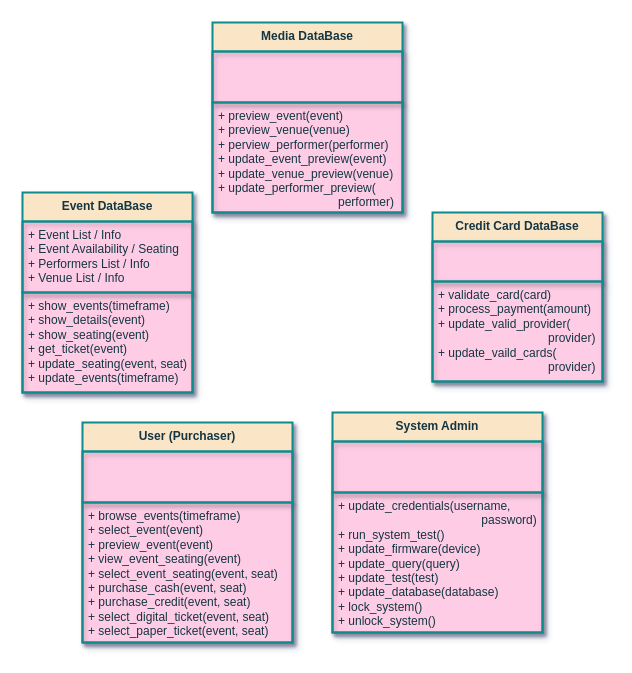
Some shapes in this 632 by 673 pixel diagram are drawn without their labels. The centre of each missing label's shape, as x and y in pixels:
+ Cash Balance + Credit Balance + Bluetooth Capability: point 188,478
+ Credit Card Providers + Valid Credit Cards #s: point 518,262
+ Event Preview + Venue Preview + Performer Preview: point 308,78
+ Login Credentials + System Specifications + System Queries / Tests: point 438,468
